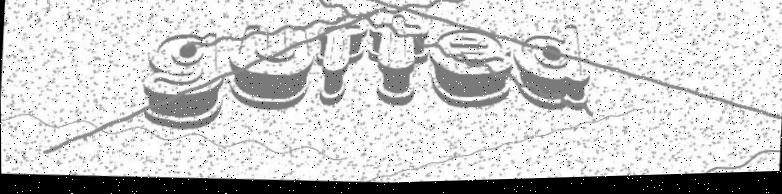d: (508, 23, 601, 122)
e: (424, 24, 520, 117)
g: (130, 26, 233, 135)
t: (361, 12, 434, 114), (308, 10, 368, 112)
u: (227, 13, 315, 122)
